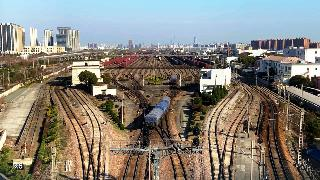train: (144, 97, 171, 129), (171, 75, 177, 84)
